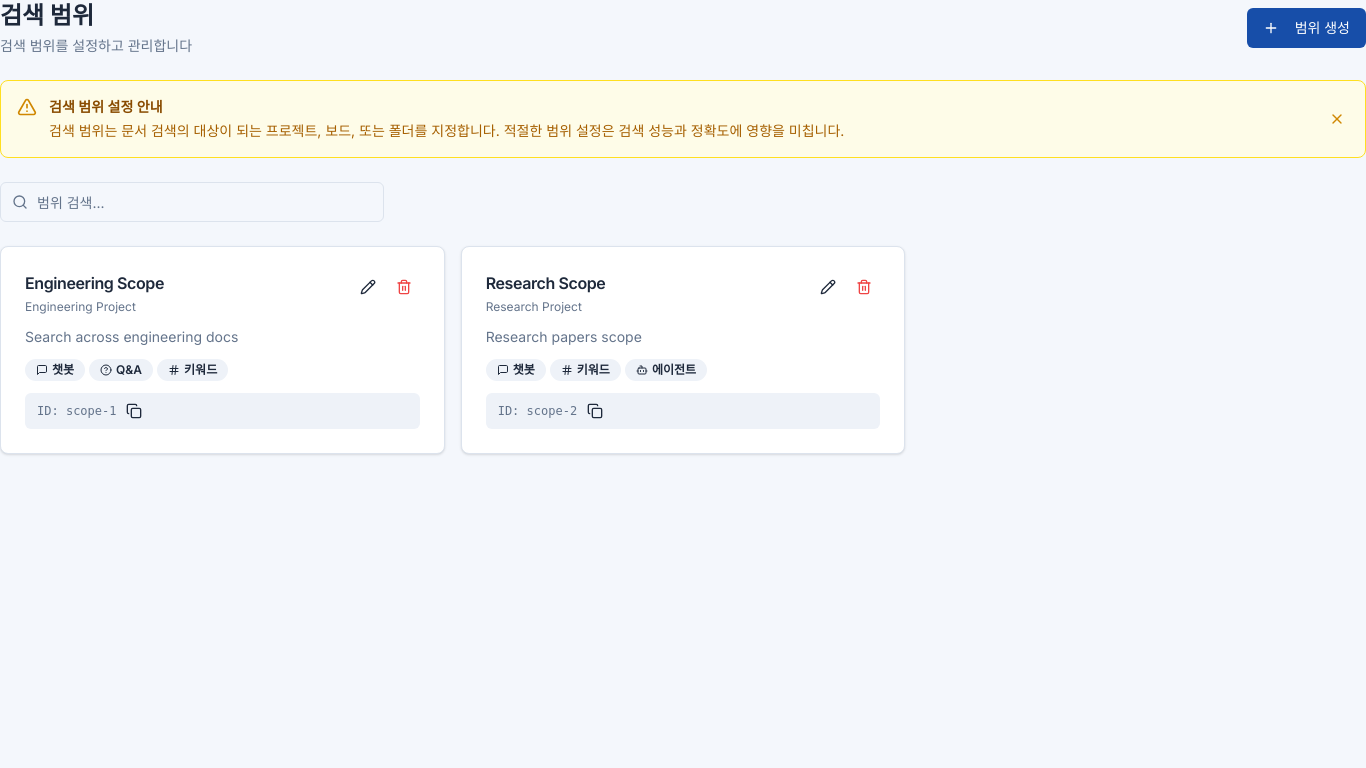
Test: SearchScopesPage › opens create dialog when clicking create scope button
Click the button "범위 생성" at (1306, 28), box [1247,8,1365,48]
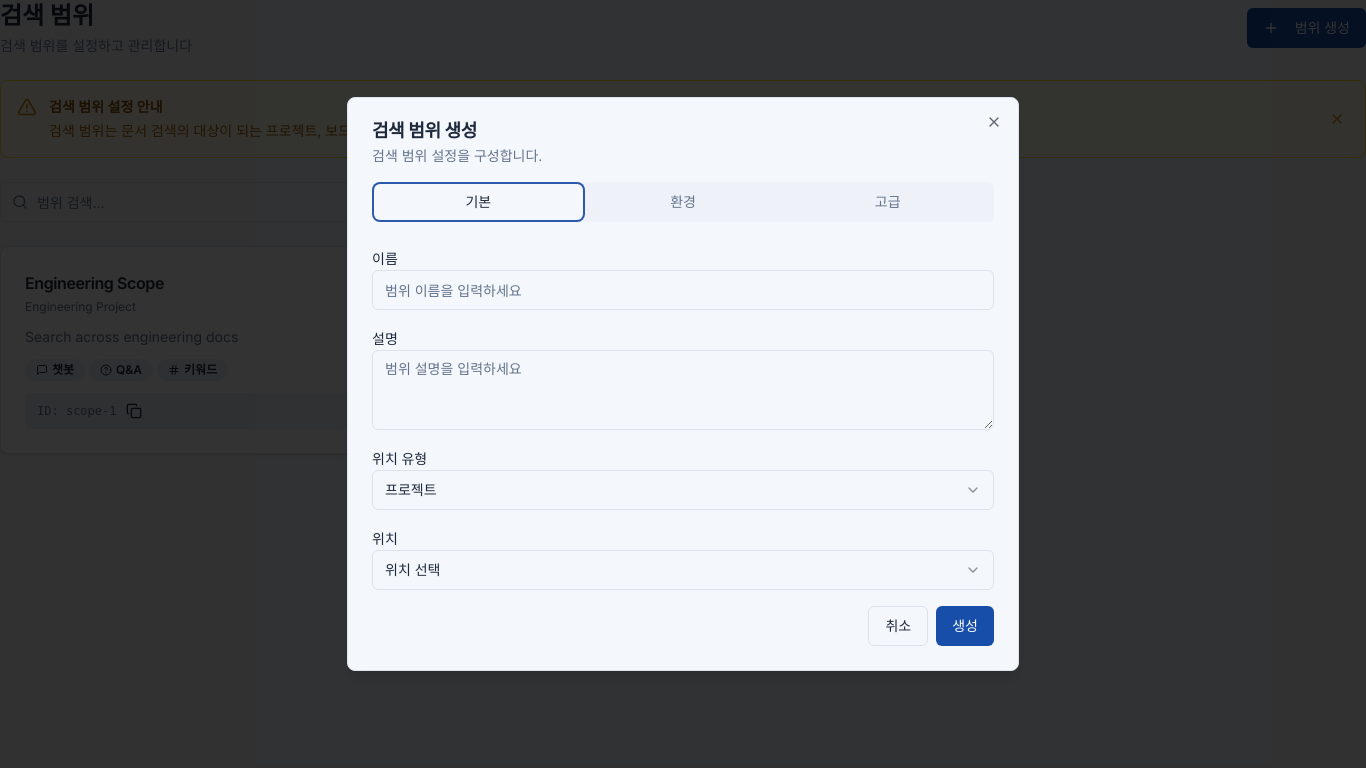
Expected: the heading "검색 범위 생성" is shown, [372,120,477,141]
